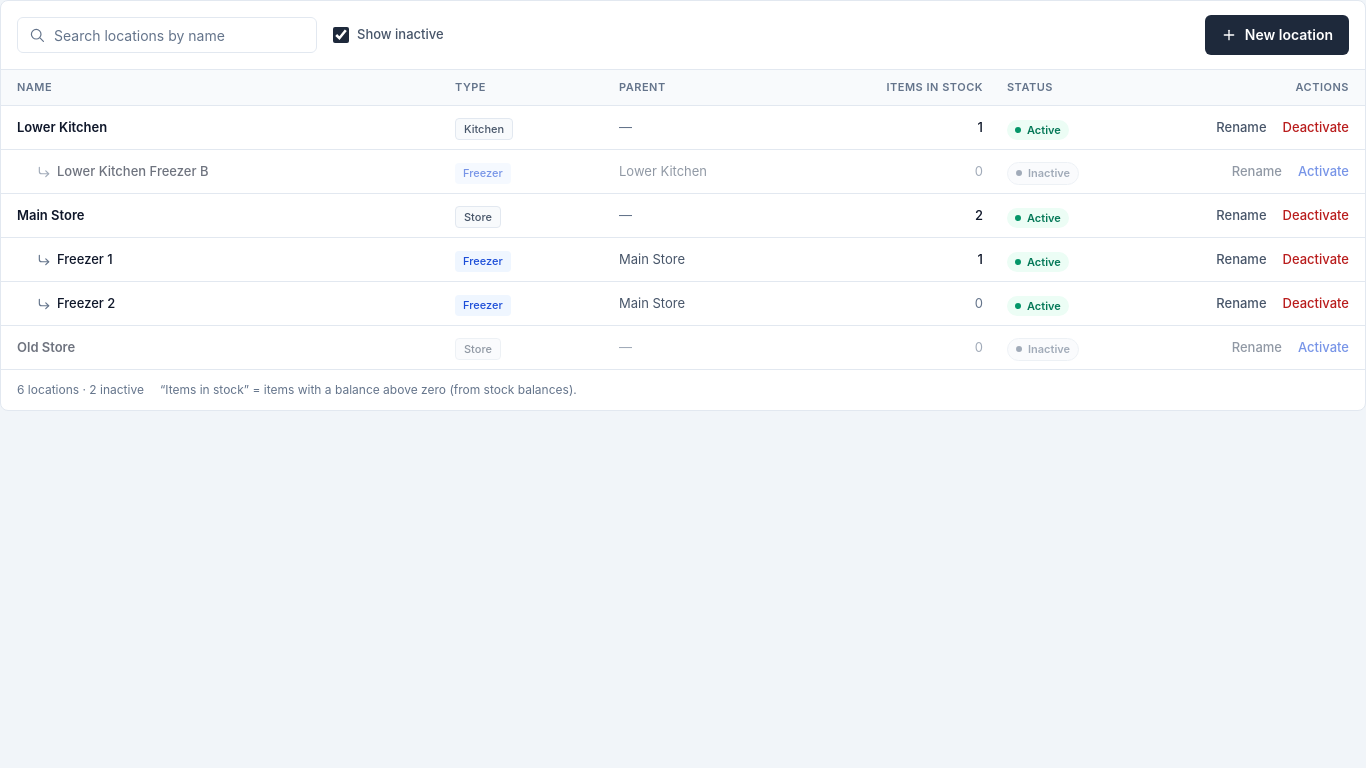
Test: StockLocationsPage (UI-STOCK-002, desktop) › creates a store without parent_id and shows a 409 duplicate name inline
Expected: the table is shown, [1,69,1365,370]
Click the button "New location".
click(1277, 35)  # box [1205,15,1349,55]
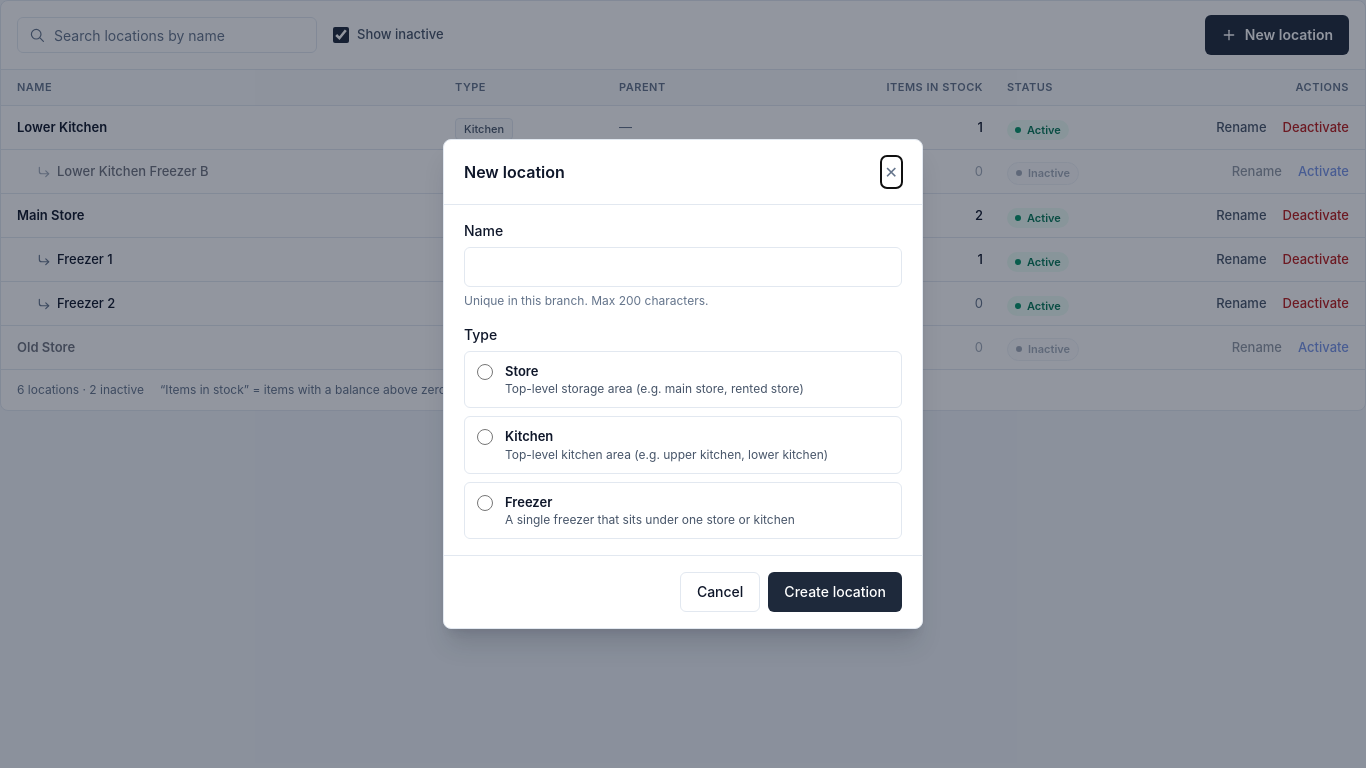
Type "Main Store" into the field labelled "Name".
click(683, 267); type("Main Store")  # box [464,247,902,287]
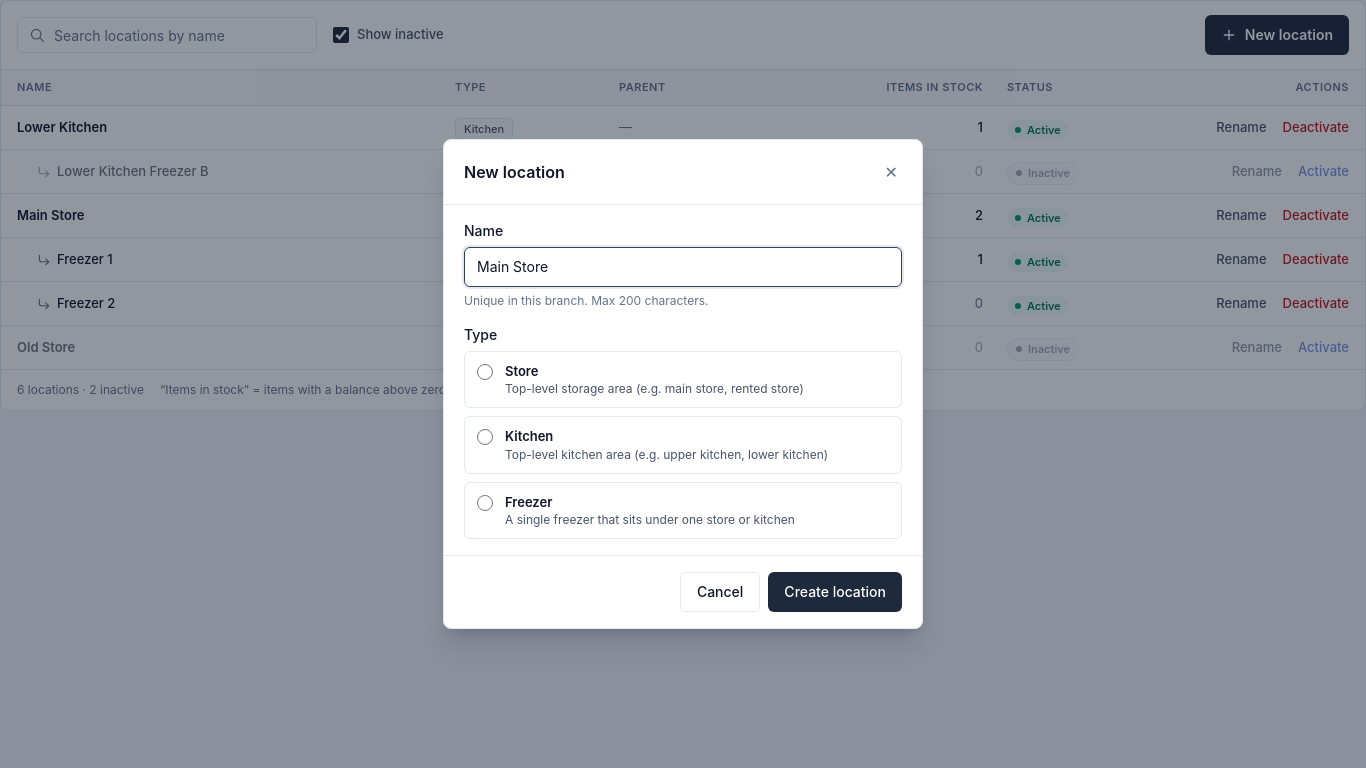
Click the radio button labelled "Store Top-level storage area (e.g. main store, rented store)".
click(485, 372)  # box [477,364,493,380]
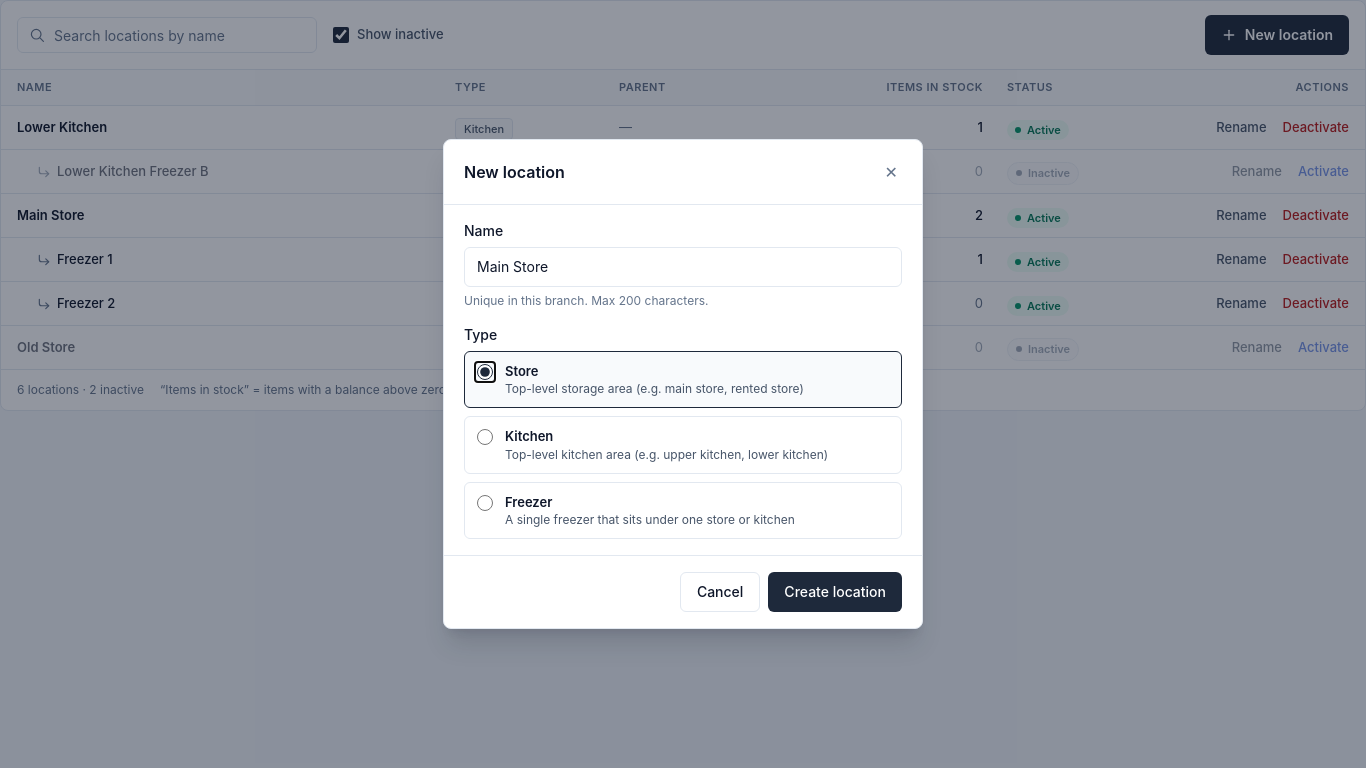
Click the button "Create location".
click(835, 592)  # box [768,572,902,612]
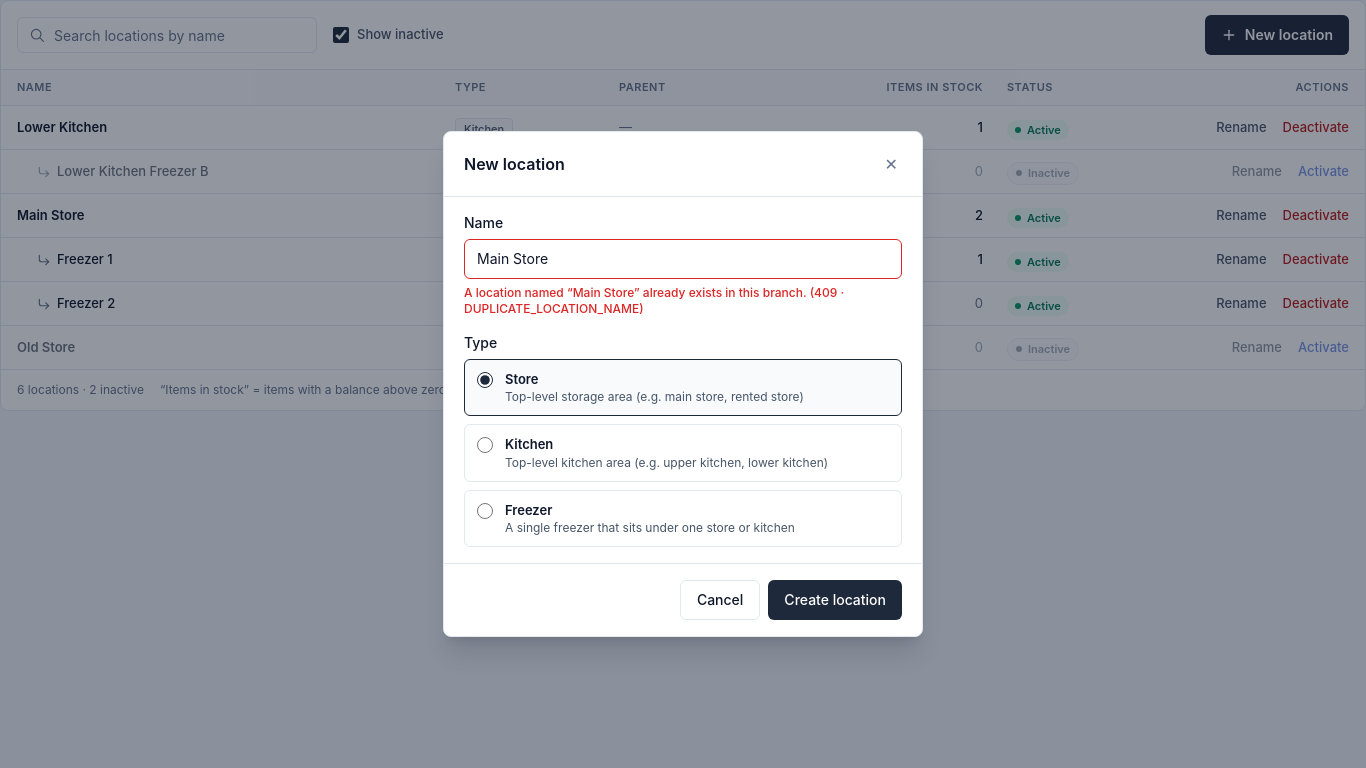
Now the text "A location named “Main Store” already exists in this branch. (409 · DUPLICATE_LOCATION_NAME)" is shown, box [464,285,844,316]
